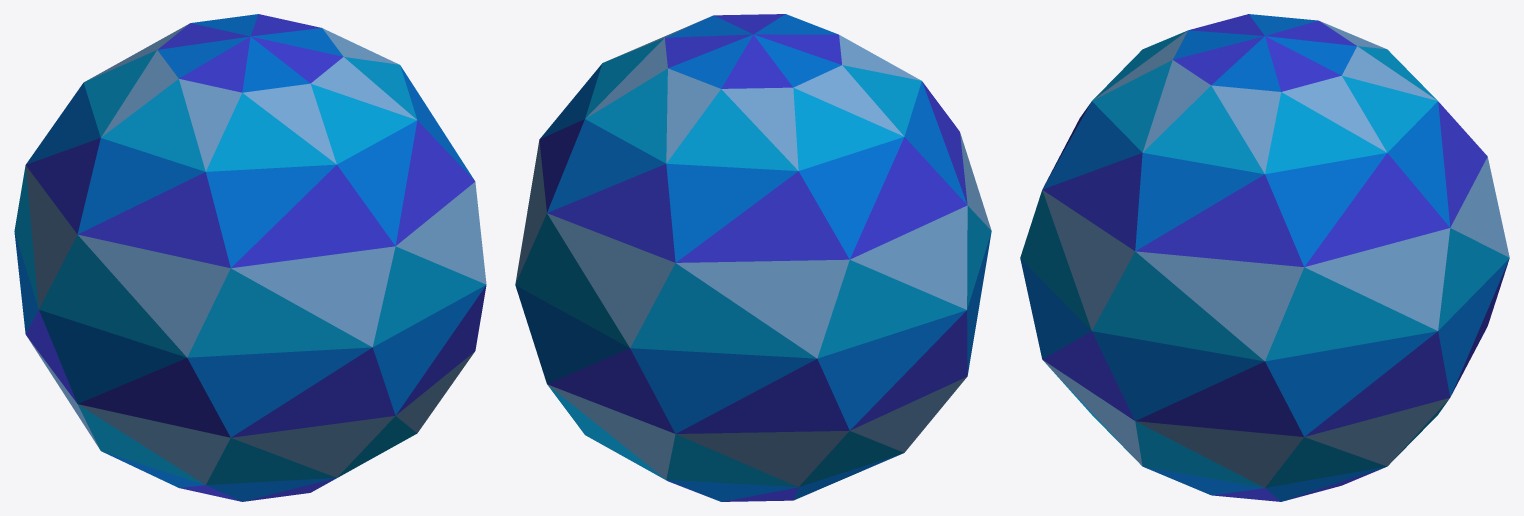
The model's file is ball2.fbx.
The picture shows the model from 3 angles, left to right: view 1: azimuth 30°, elevation 25°; view 2: azimuth 150°, elevation 25°; view 3: azimuth 270°, elevation 25°; orthographic projection.
Parts seen in each view (by area): view 1: Sphere; view 2: Sphere; view 3: Sphere.
Boxes of the visible parts, x1,y1,x2,y2 form: Sphere: (14, 14, 486, 501); Sphere: (515, 14, 991, 501); Sphere: (1020, 14, 1509, 501).
Bounding box in the file's own units: 200 × 200 × 200.
